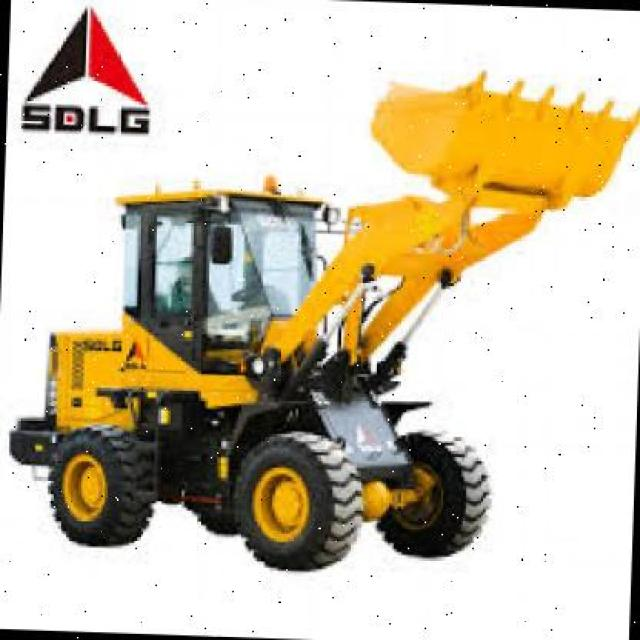buldozerpayloadergrader: (0, 61, 635, 590)
